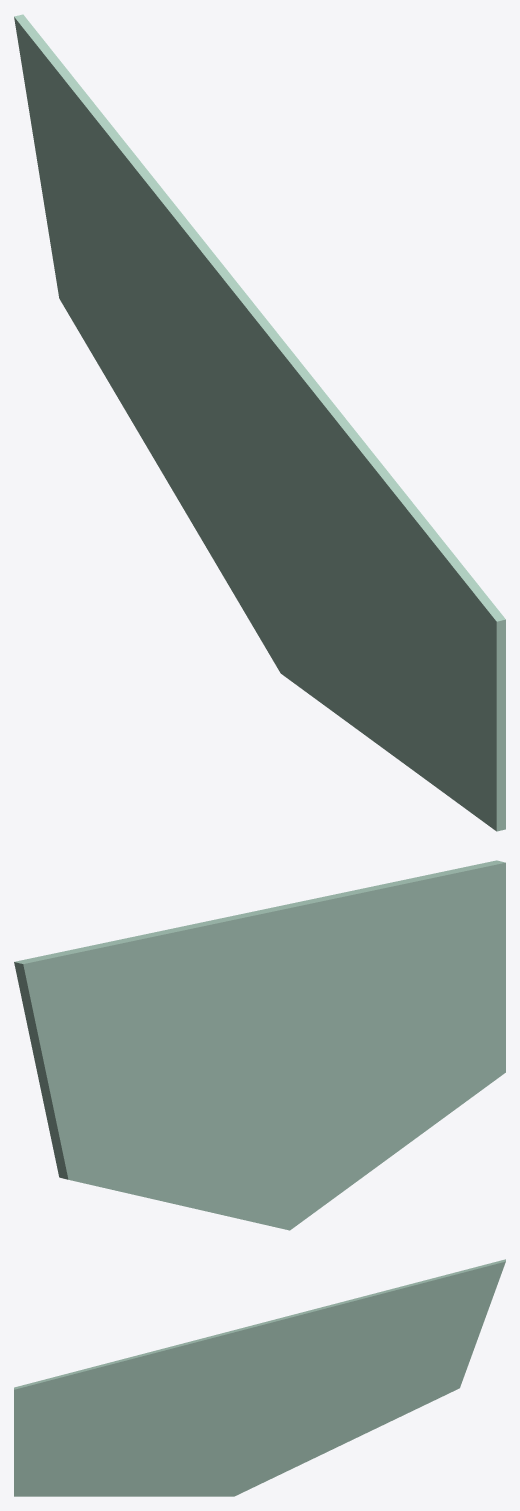
File: handle.obj
3 views of the same model, one above another, from view 1: azimuth 30°, elevation 25°; view 2: azimuth 150°, elevation 25°; view 3: azimuth 270°, elevation 25° (orthographic). The views are drawn at different scales.
Parts seen in each view (by area): view 1: mediumBowlVisual.002; view 2: mediumBowlVisual.002; view 3: mediumBowlVisual.002.
Boxes of the visible parts, x1,y1,x2,y2 form: mediumBowlVisual.002: (14,14,505,831); mediumBowlVisual.002: (14,860,505,1230); mediumBowlVisual.002: (14,1259,505,1496).
Bounding box in the file's own units: 0.00133 × 0.0633 × 0.12.
